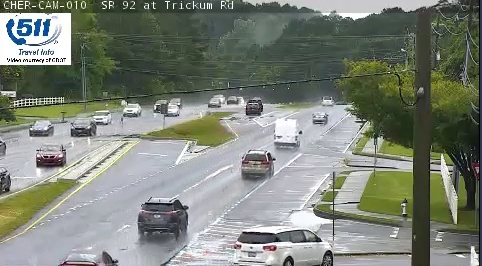car: (138, 197, 187, 232), (240, 150, 273, 175), (312, 113, 327, 125)
van: (274, 119, 300, 147)
